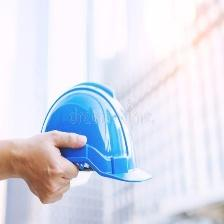helmet: (35, 72, 156, 192)
